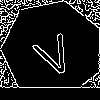V: (27, 24, 78, 80)
